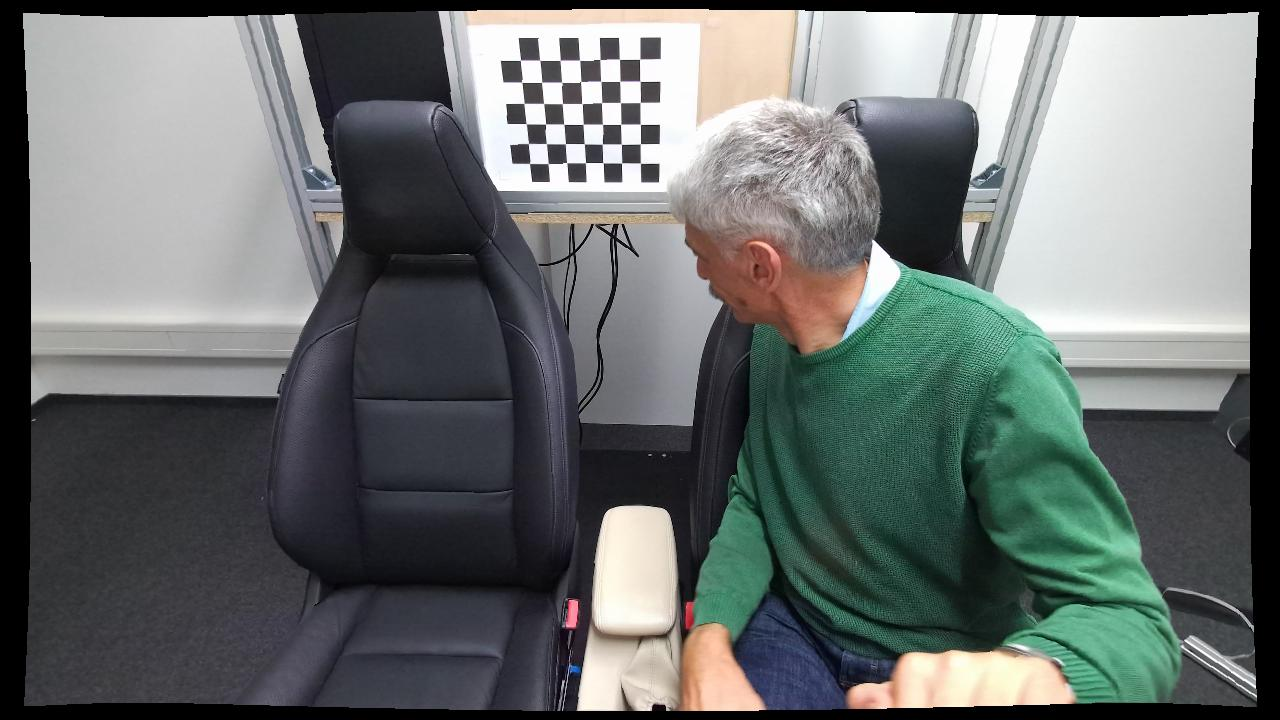Distracted: (663, 97, 1178, 719)
